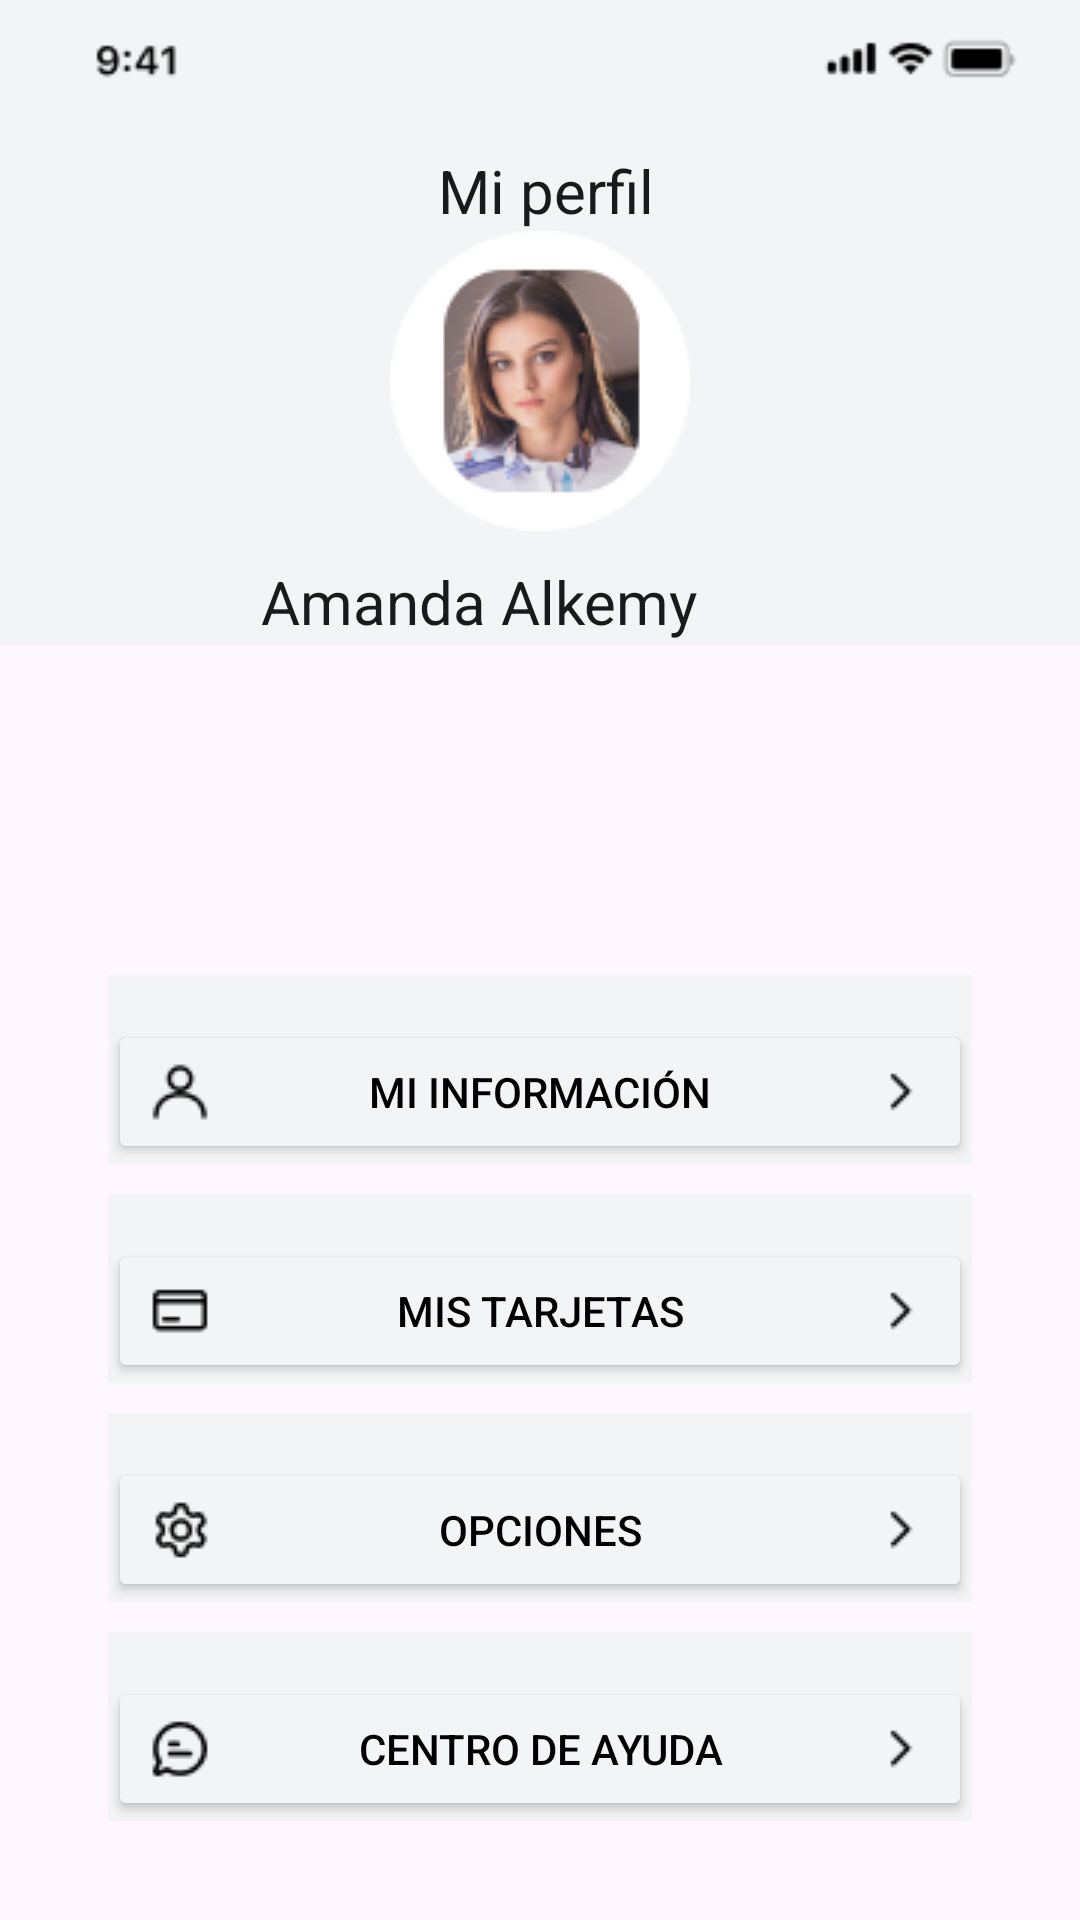

Icon bounding boxes for this 1080px x 1920px phone screenshot, format bbox=(x1, y1, x2, y2):
profilepicturepage: bbox=(443, 269, 640, 492)
